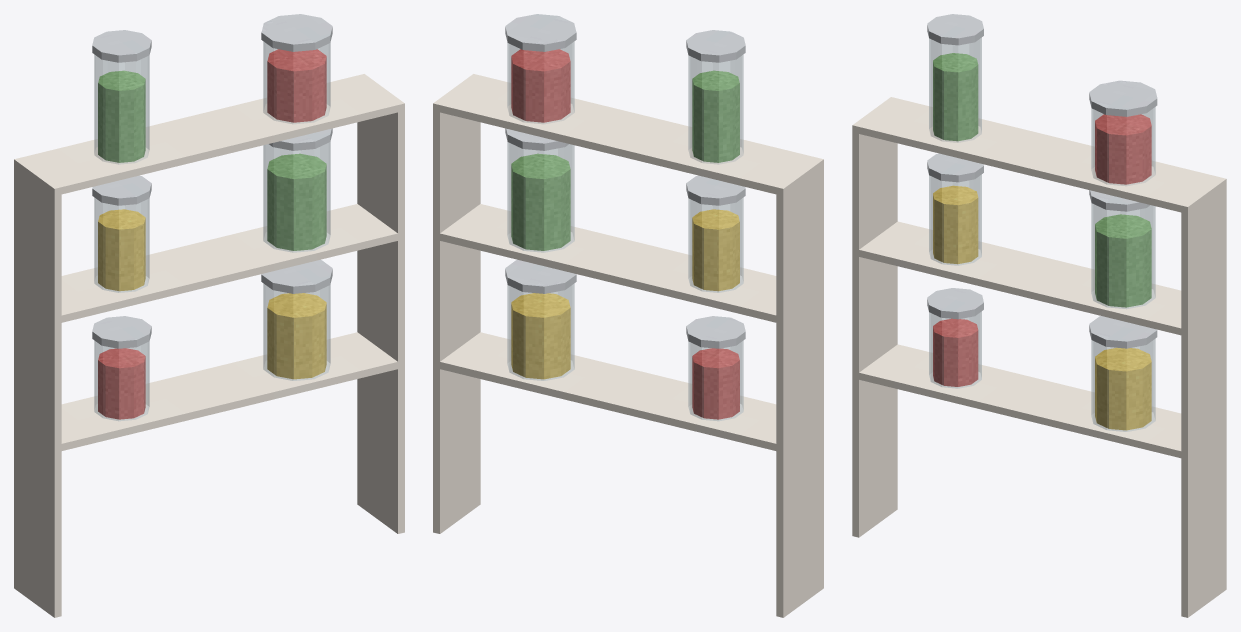
The picture shows the model from 3 angles, left to right: view 1: azimuth 30°, elevation 25°; view 2: azimuth 150°, elevation 25°; view 3: azimuth 330°, elevation 25°; orthographic projection. The views are drawn at different scales.
Parts seen in each view (by area): view 1: Decor_candy_jar_shelf; view 2: Decor_candy_jar_shelf; view 3: Decor_candy_jar_shelf.
Boxes of the visible parts, left/top/right/bottom form: Decor_candy_jar_shelf: left=14, top=14, right=404, bottom=617; Decor_candy_jar_shelf: left=433, top=14, right=823, bottom=617; Decor_candy_jar_shelf: left=852, top=14, right=1226, bottom=617.
Size of the model in its own units: 2 by 2.94 by 0.4001.
6 materials, 6 textured.
